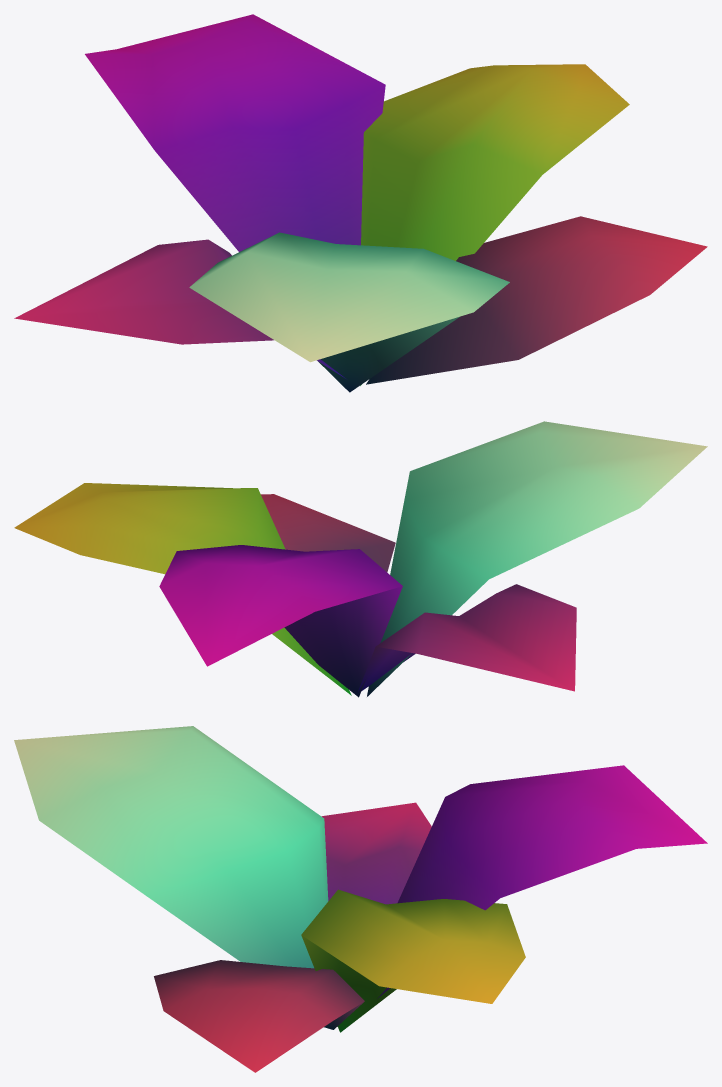
File: Greater Burdock_LOD3_Var4_xh5pdgiqx.fbx
3 renders of one model, top to bottom at view 1: azimuth 30°, elevation 25°; view 2: azimuth 150°, elevation 25°; view 3: azimuth 270°, elevation 25°, orthographic. The views are drawn at different scales.
Visible parts, largest first — view 1: _7nba_Var4_LOD3; view 2: _7nba_Var4_LOD3; view 3: _7nba_Var4_LOD3.
Boxes of the visible parts, x1,y1,x2,y2 form: _7nba_Var4_LOD3: [14, 14, 707, 392]; _7nba_Var4_LOD3: [14, 421, 707, 697]; _7nba_Var4_LOD3: [14, 726, 707, 1072].
Bounding box in the file's own units: 40.28 × 16.03 × 44.31.
